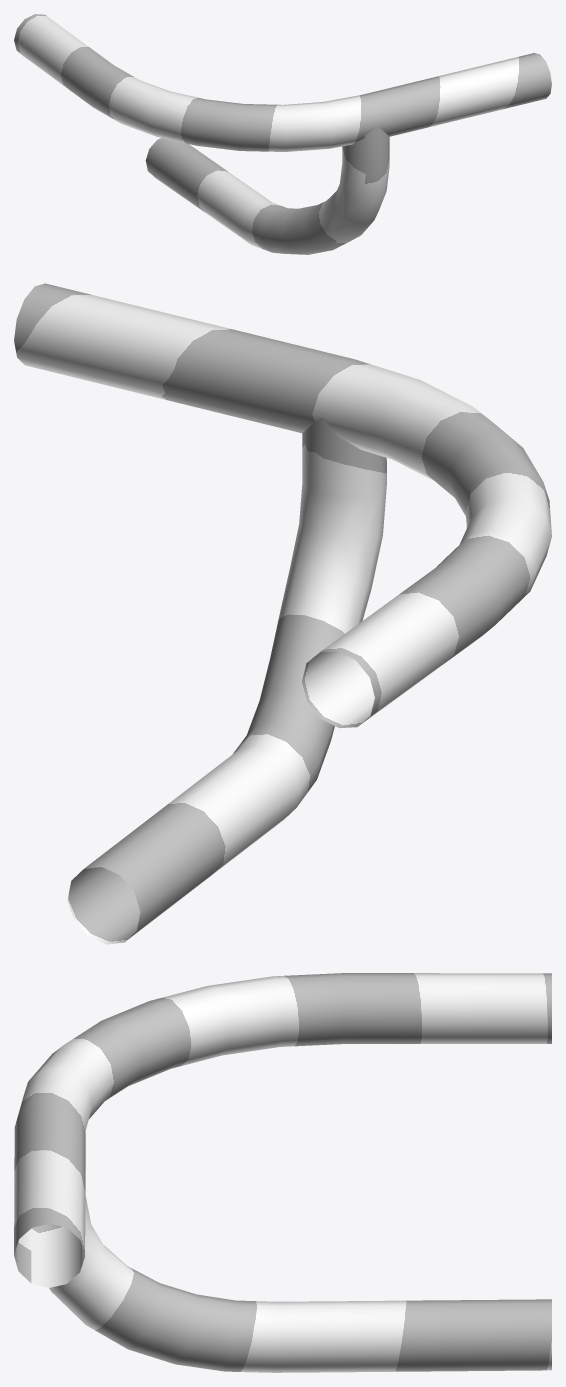
Rendered from Rail_Right_Long_End.fbx.
3 renders of one model, top to bottom at view 1: azimuth 30°, elevation 25°; view 2: azimuth 150°, elevation 25°; view 3: azimuth 270°, elevation 25°, orthographic. The views are drawn at different scales.
Visible parts, largest first — view 1: Rail_Right_Long_End; view 2: Rail_Right_Long_End; view 3: Rail_Right_Long_End.
Boxes of the visible parts, x1,y1,x2,y2 form: Rail_Right_Long_End: [14, 14, 551, 254]; Rail_Right_Long_End: [14, 283, 551, 944]; Rail_Right_Long_End: [14, 973, 551, 1372].
Bounding box in the file's own units: 69.26 × 60.03 × 36.22.
1 material, 1 textured.
